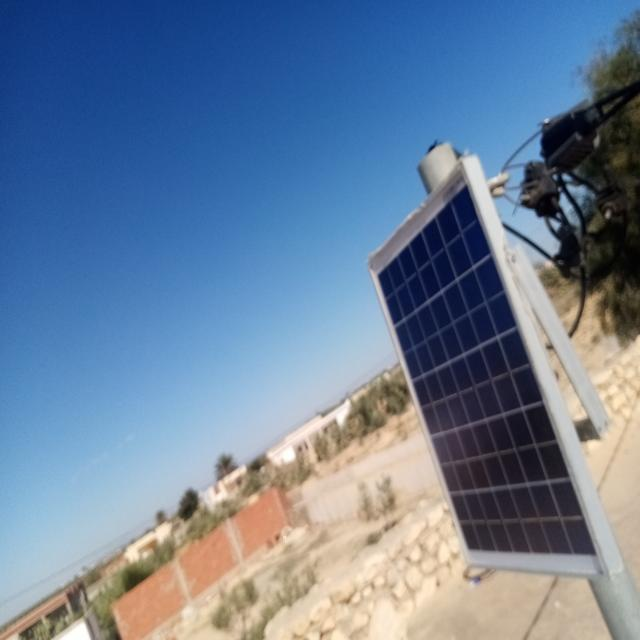no faulty: (368, 160, 610, 578)
